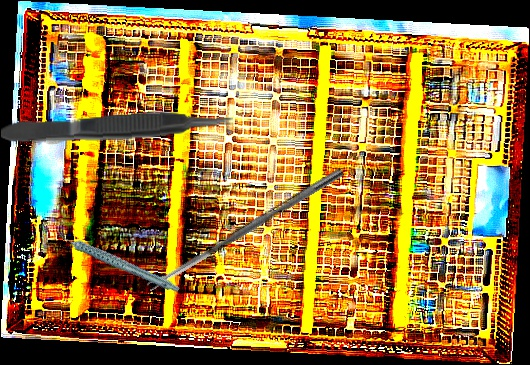Handpiece: (55, 206, 181, 315)
Surgical Spoon: (145, 166, 345, 292)
Tissue Forceps: (0, 107, 234, 145)
